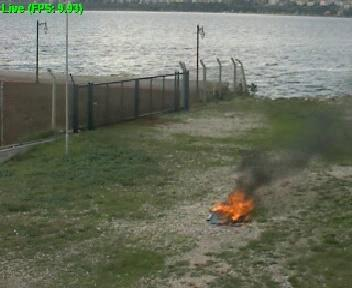fire: (214, 191, 252, 218)
smoke: (242, 160, 283, 184)
